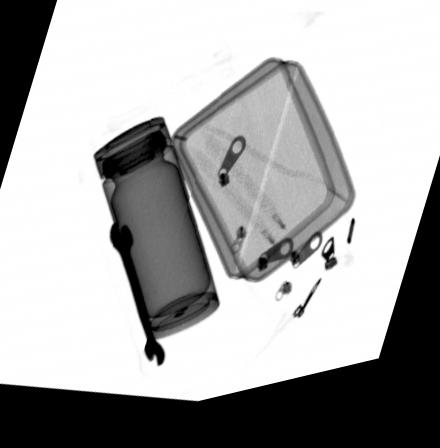Wrench: (108, 227, 167, 377)
